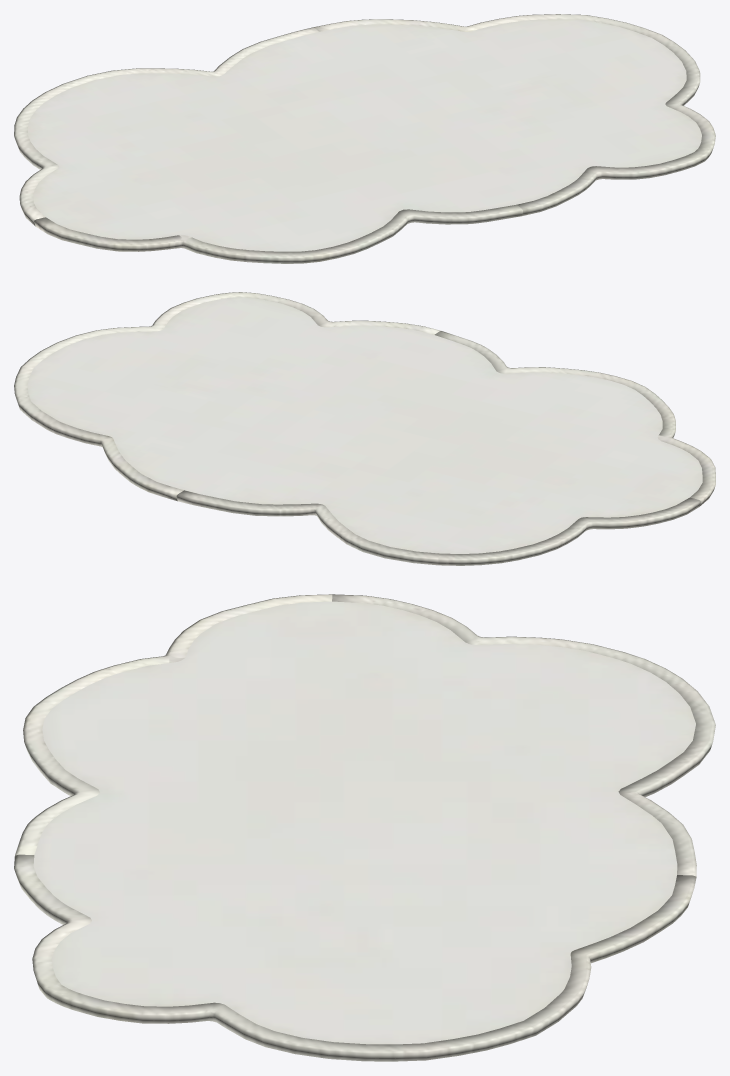
The model's file is cloudcarfet.glb.
3 renders of one model, top to bottom at view 1: azimuth 30°, elevation 25°; view 2: azimuth 150°, elevation 25°; view 3: azimuth 270°, elevation 25°, orthographic. The views are drawn at different scales.
Visible parts, largest first — view 1: Main__mMain.007; view 2: Main__mMain.007; view 3: Main__mMain.007.
Boxes of the visible parts, bbox=[...] form: Main__mMain.007: bbox=[14, 14, 715, 263]; Main__mMain.007: bbox=[14, 292, 715, 565]; Main__mMain.007: bbox=[14, 594, 715, 1061].
Bounding box in the file's own units: 1.04 × 0.0109 × 0.672.
Materials: 1 (1 with a texture image).
